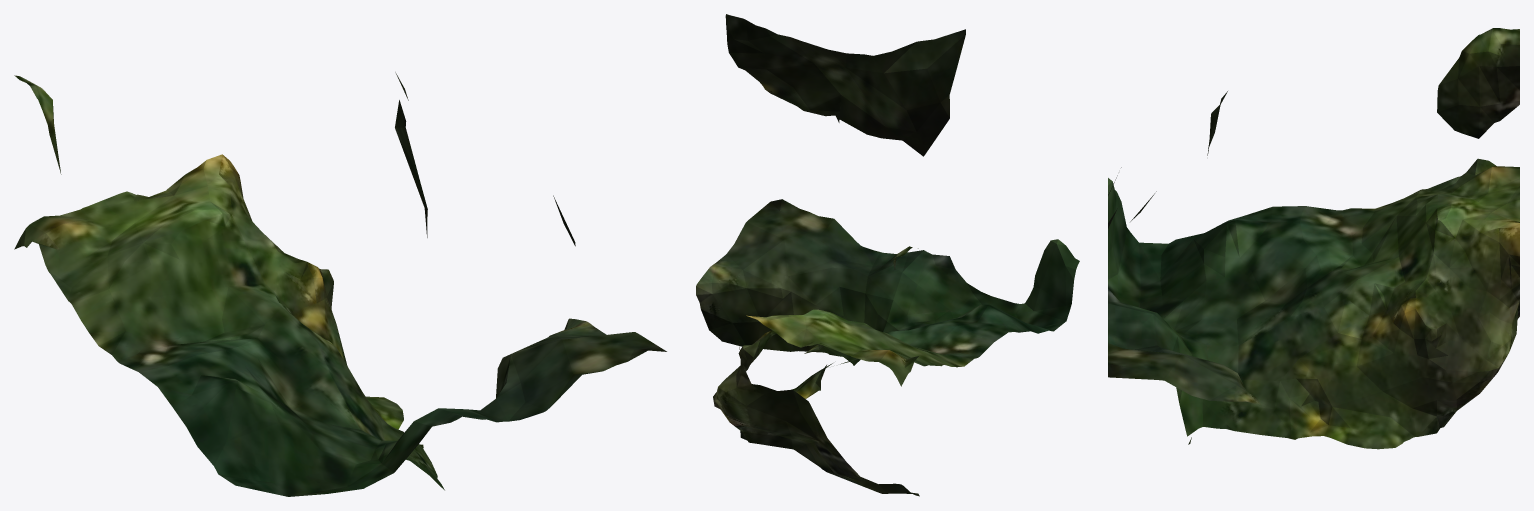
3 renders of one model, left to right at view 1: azimuth 30°, elevation 25°; view 2: azimuth 150°, elevation 25°; view 3: azimuth 270°, elevation 25°, orthographic. The views are drawn at different scales.
Size of the model in its own units: 0.8373 by 0.8373 by 0.8374.
Materials: 4 (4 with a texture image).
